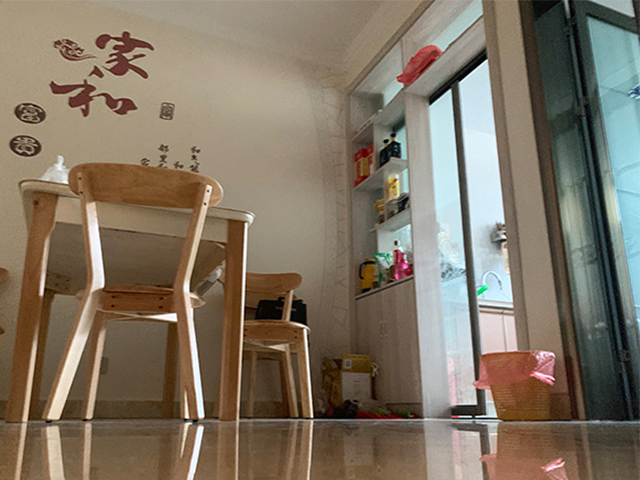cabinet: (344, 271, 436, 419)
stool: (39, 162, 224, 423), (239, 271, 316, 420)
table: (4, 179, 255, 425)
trashcan: (481, 350, 556, 422)
